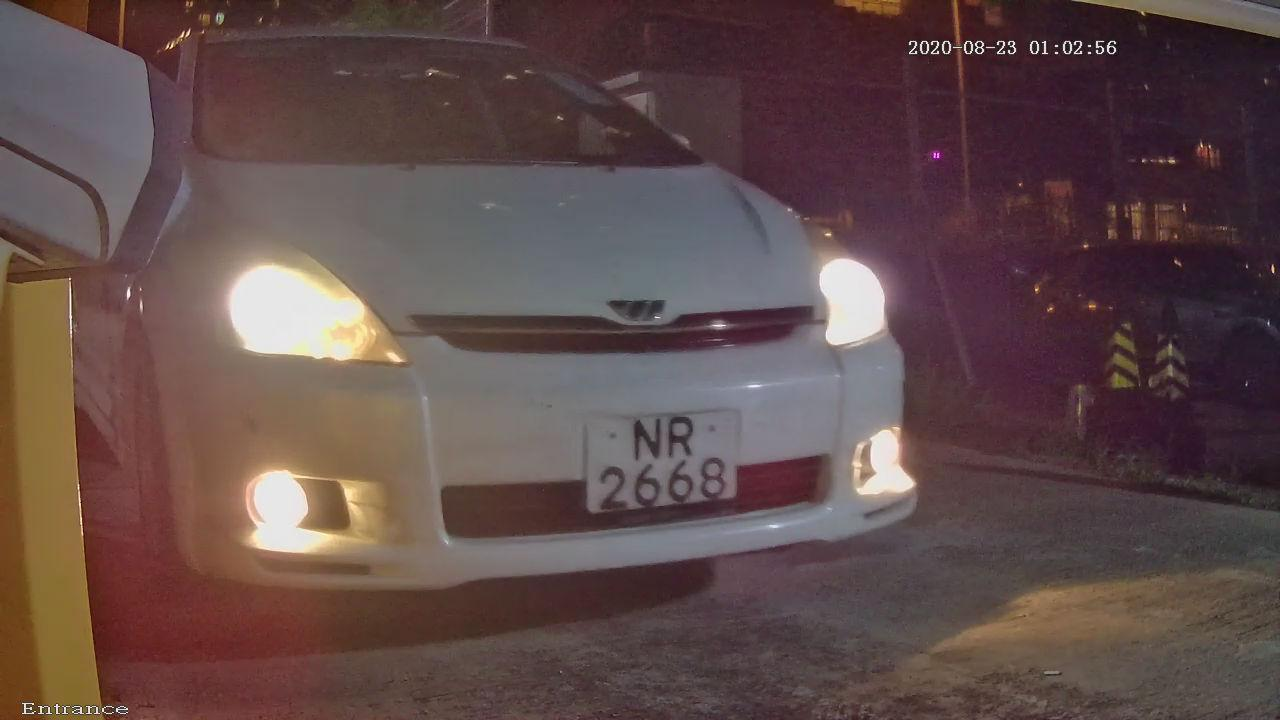Car: (35, 17, 1006, 682)
License Plate: (561, 396, 749, 534)
